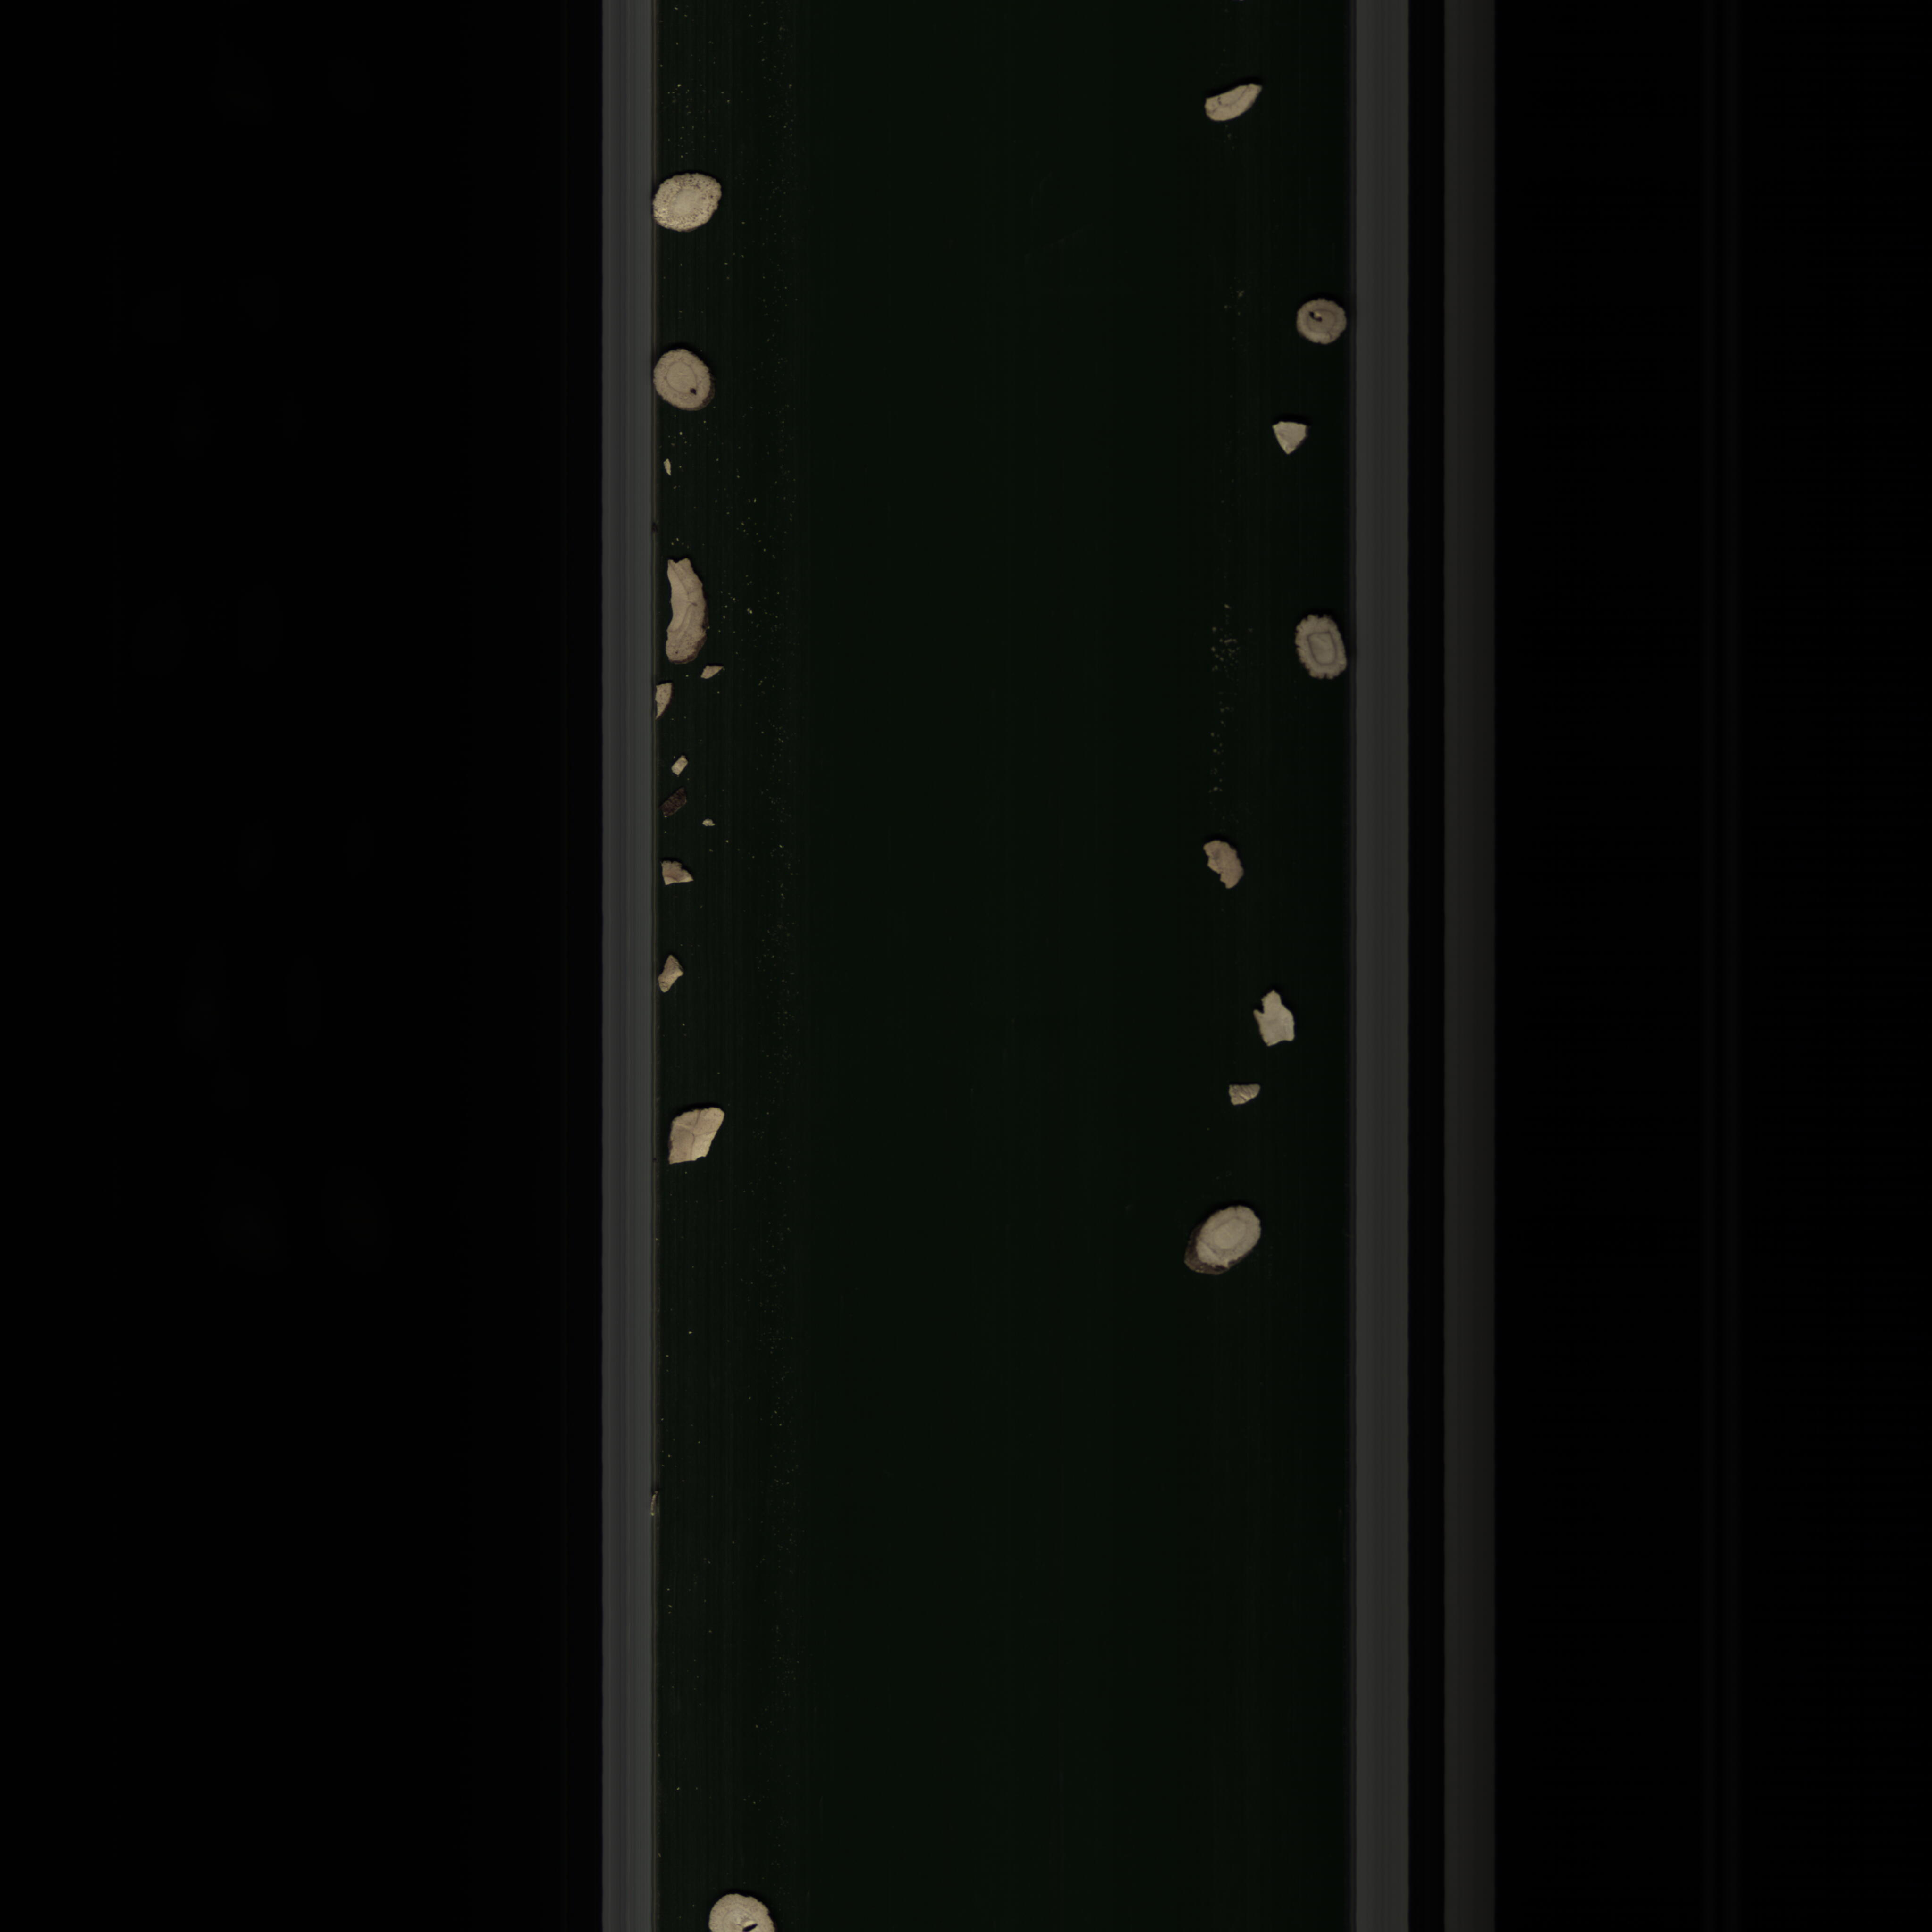debris: (658, 552, 709, 663), (663, 1102, 731, 1171), (1249, 984, 1313, 1054), (1196, 76, 1270, 126), (1192, 833, 1254, 892), (1269, 414, 1315, 455), (658, 948, 692, 994), (656, 853, 695, 888), (649, 676, 679, 720)
hole: (655, 340, 722, 425), (699, 1881, 778, 1932), (1284, 294, 1353, 349), (1215, 1070, 1269, 1108)
moldy: (1290, 612, 1353, 683)
